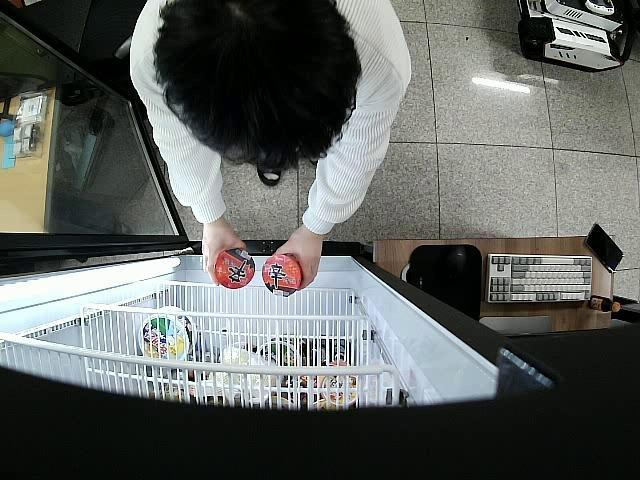02_shinRamen_S: (210, 246, 253, 290), (262, 252, 304, 296)
